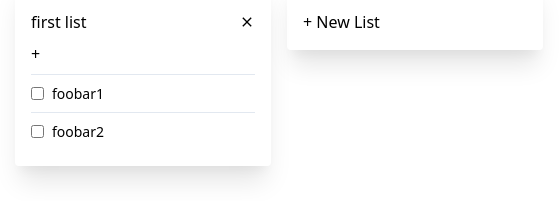
BoardContainer.tsx › archives a card
The image size is (559, 201).
Check: the text "foobar1" is shown, box x1=52 y1=83 x2=104 y2=104
In the 1st checkbox: (38, 94) x1=31 y1=87 x2=44 y2=100, type "Add Test."
Then press Enter
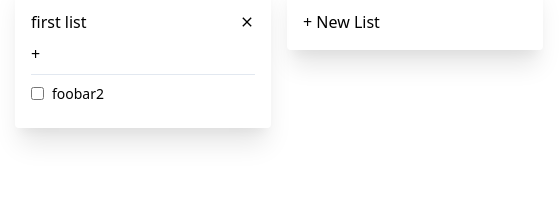
Check: the button "foobar1" is gone
